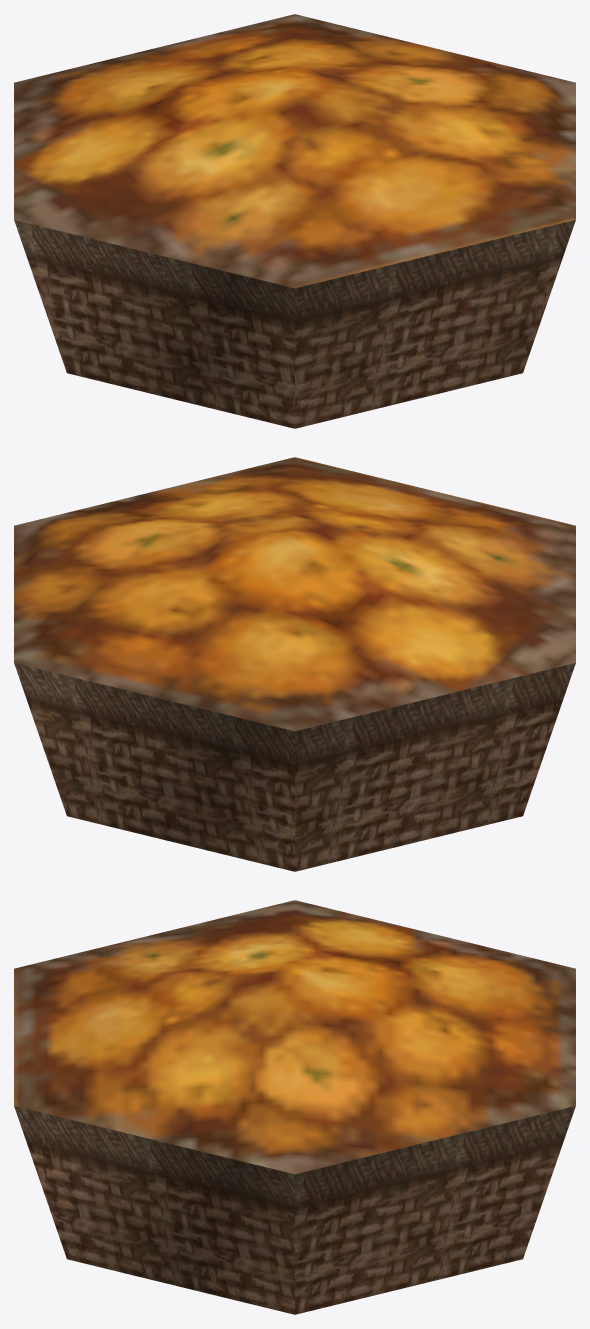
Rendered from euro_fushop06@s50.glb.
3 renders of one model, top to bottom at view 1: azimuth 30°, elevation 25°; view 2: azimuth 150°, elevation 25°; view 3: azimuth 270°, elevation 25°, orthographic.
Parts seen in each view (by area): view 1: euro_fushop06; view 2: euro_fushop06; view 3: euro_fushop06.
Part boxes in pixels (bbox=[...]): euro_fushop06: bbox=[14, 14, 575, 428]; euro_fushop06: bbox=[14, 457, 575, 871]; euro_fushop06: bbox=[14, 900, 575, 1314].
Bounding box in the file's own units: 0.8574 × 0.3308 × 0.7425.
2 materials, 2 textured.
